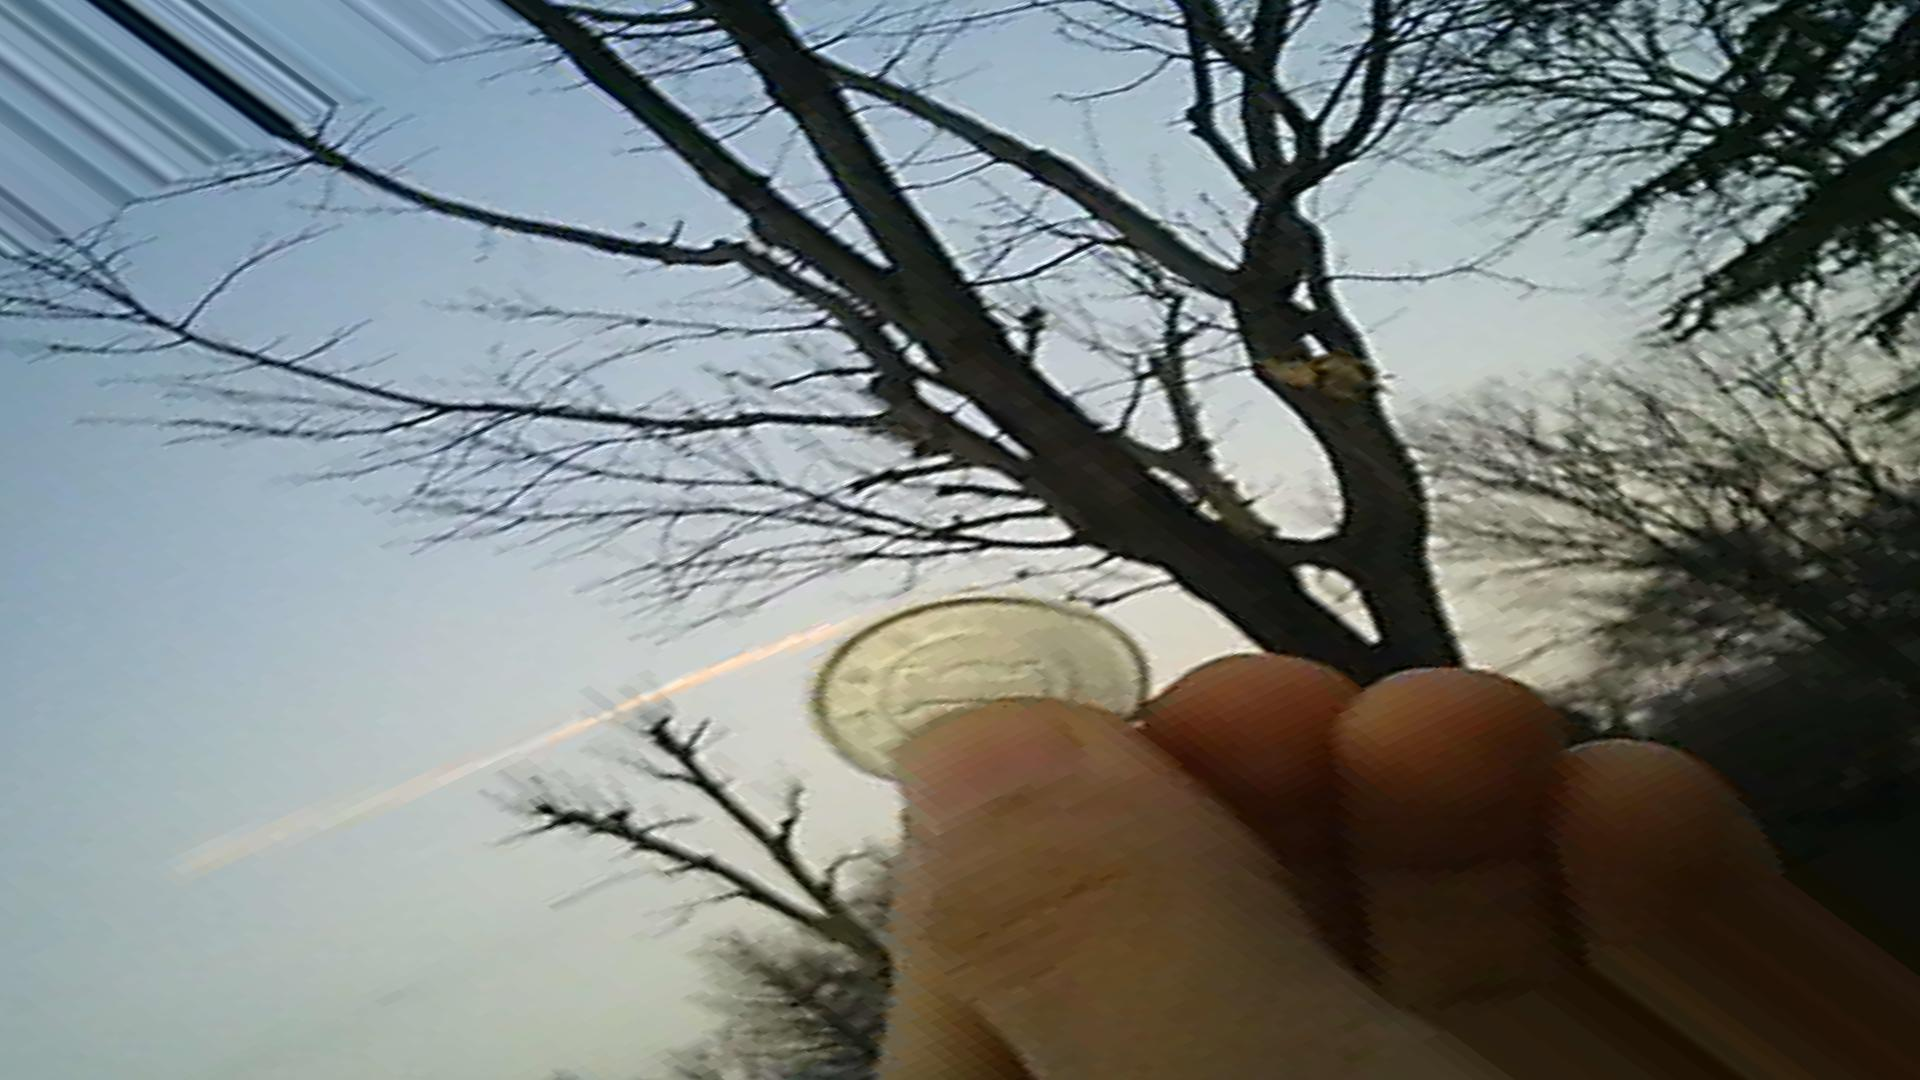1 Yen: (807, 589, 1156, 785)
